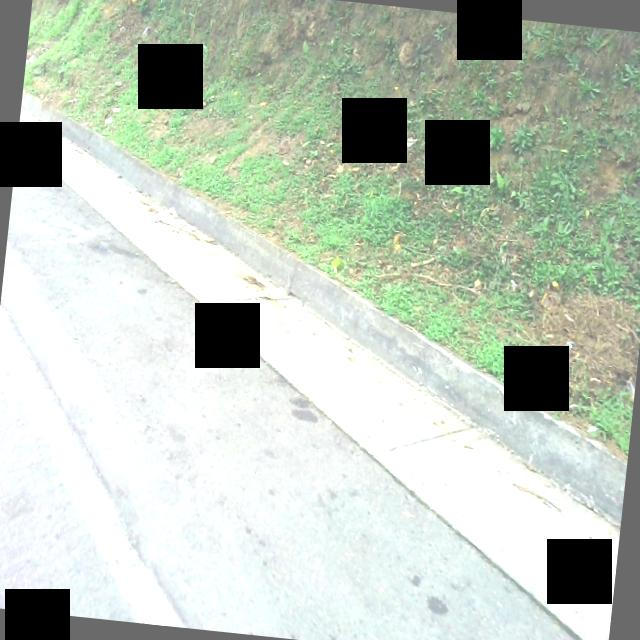DITCH: (0, 97, 640, 640), (0, 135, 640, 640)
